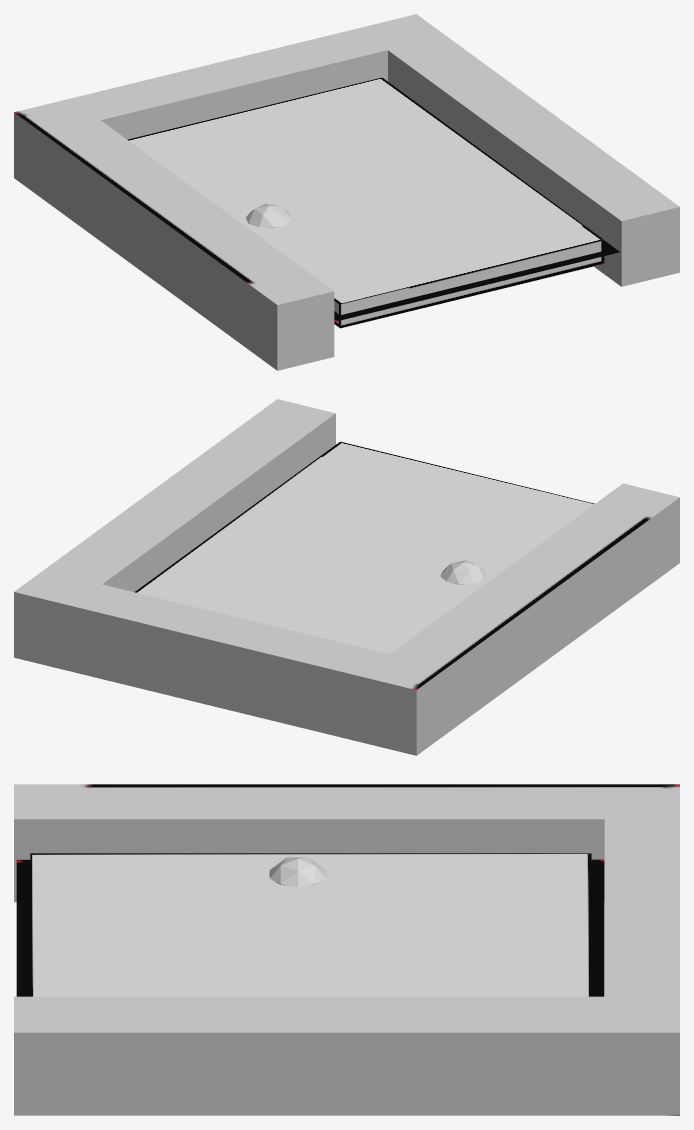
File: simpledoor.dae
3 views of the same model, one above another, from view 1: azimuth 30°, elevation 25°; view 2: azimuth 150°, elevation 25°; view 3: azimuth 270°, elevation 25° (orthographic). The views are drawn at different scales.
Parts seen in each view (by area): view 1: DoorframeFaces, Door, DoorKnop; view 2: DoorframeFaces, Door, DoorKnop; view 3: DoorframeFaces, Door, DoorKnop.
Boxes of the visible parts, x1=… form: DoorframeFaces: x1=14, y1=14, x2=679, y2=370; Door: x1=127, y1=77, x2=604, y2=328; DoorKnop: x1=246, y1=203, x2=292, y2=227; DoorframeFaces: x1=14, y1=399, x2=679, y2=755; Door: x1=135, y1=441, x2=594, y2=654; DoorKnop: x1=440, y1=560, x2=486, y2=584; DoorframeFaces: x1=14, y1=784, x2=679, y2=1115; Door: x1=30, y1=853, x2=591, y2=996; DoorKnop: x1=269, y1=857, x2=326, y2=886.
Bounding box in the file's own units: 2 × 2.27 × 0.3122.
